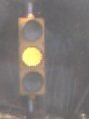Yellow: (12, 9, 46, 108)
